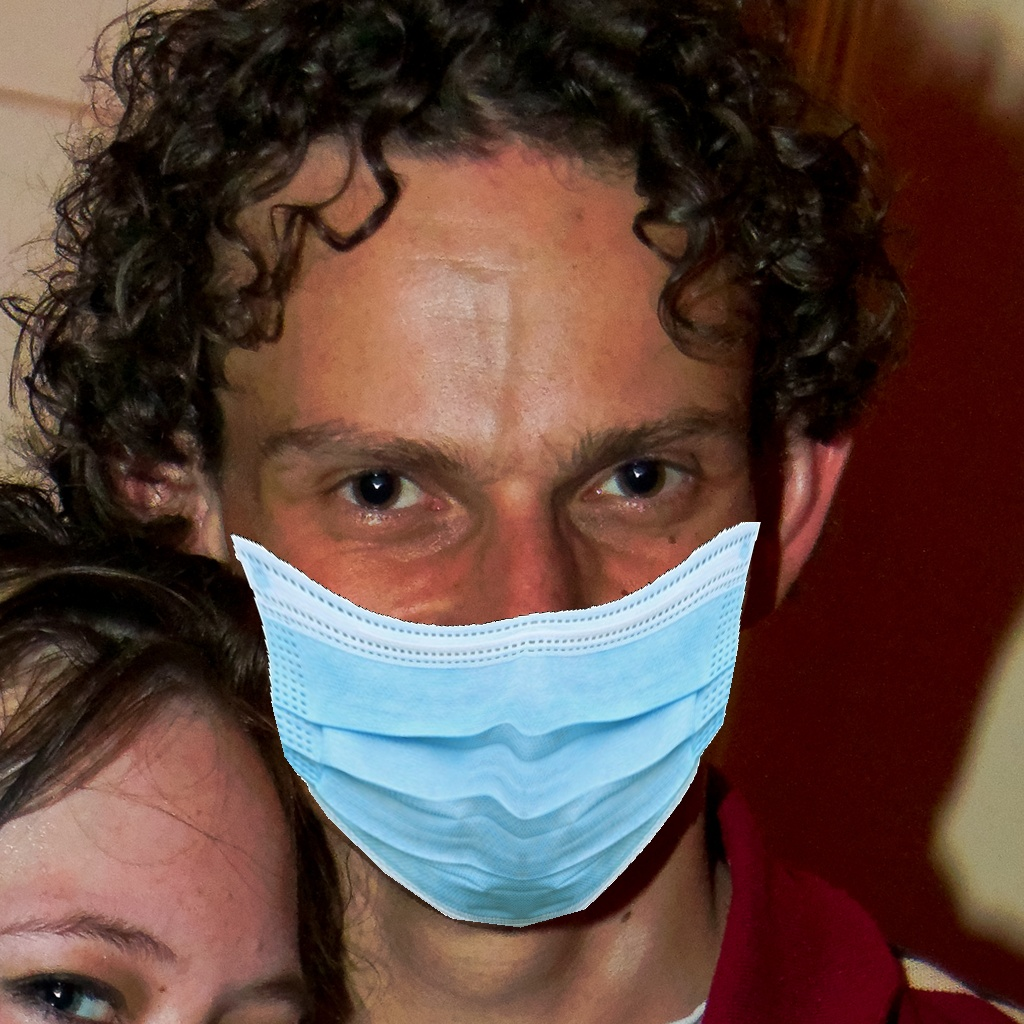Mask: (231, 363, 762, 936)
